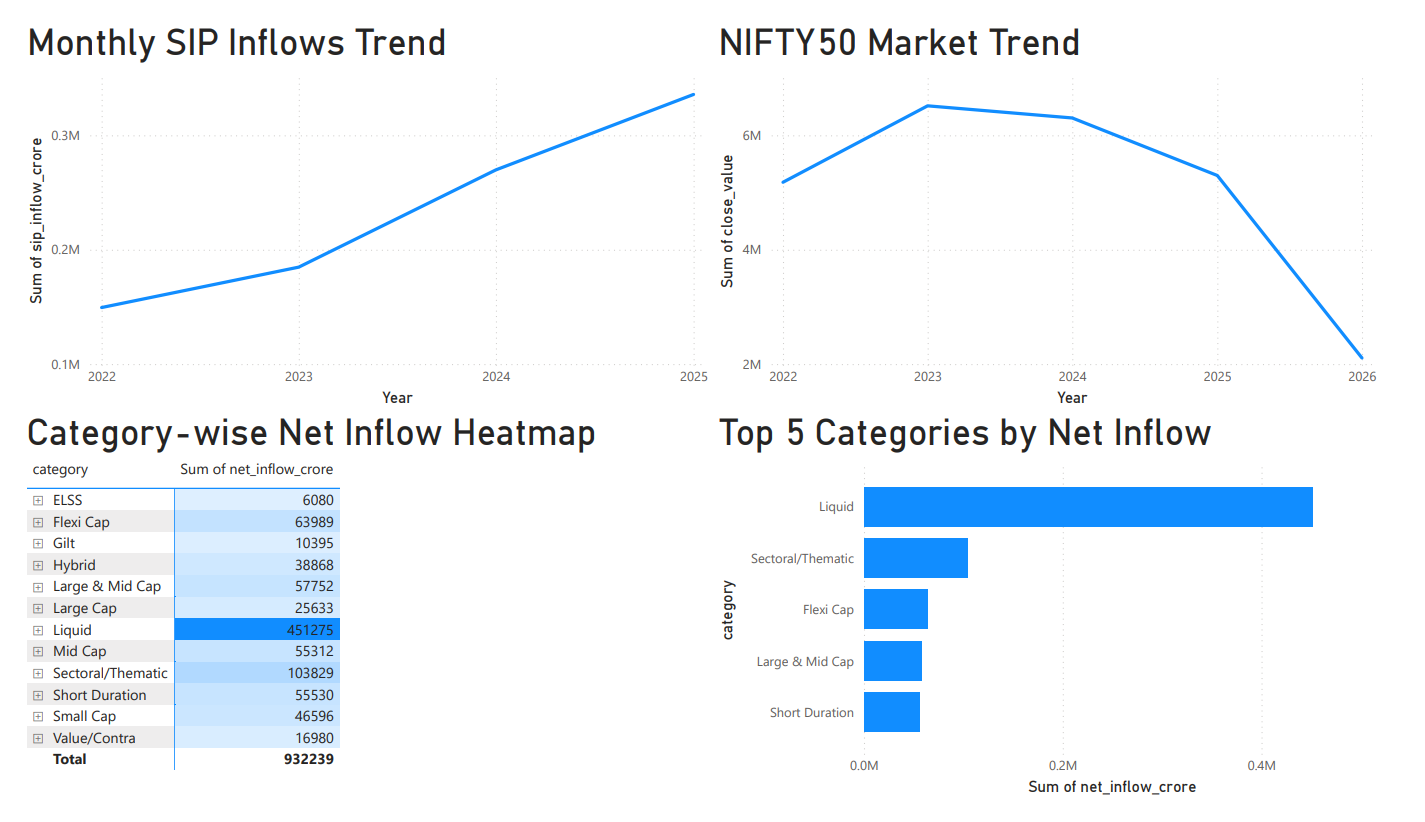

Layout of this report page (visuals, bound fields, positions):
{"tool":"powerbi","page":{"name":"Page 4 SIP & Market Trends","canvas":[1280,720],"ordinal":3},"visuals":[{"type":"lineChart","title":"Monthly SIP Inflows Trend","fields":{"Category":["04_monthly_sip_inflows.month.Variation.Date Hierarchy.Year","04_monthly_sip_inflows.month.Variation.Date Hierarchy.Quarter","04_monthly_sip_inflows.month.Variation.Date Hierarchy.Month","04_monthly_sip_inflows.month.Variation.Date Hierarchy.Day"],"Y":["Sum(04_monthly_sip_inflows.sip_inflow_crore)"]},"box":[0,0,640,360],"z":0},{"type":"lineChart","title":"NIFTY50 Market Trend","fields":{"Category":["10_benchmark_indices.date.Variation.Date Hierarchy.Year","10_benchmark_indices.date.Variation.Date Hierarchy.Quarter","10_benchmark_indices.date.Variation.Date Hierarchy.Month","10_benchmark_indices.date.Variation.Date Hierarchy.Day"],"Y":["Sum(10_benchmark_indices.close_value)"]},"box":[640,0,618.6,360],"z":1000},{"type":"pivotTable","title":"Category-wise Net Inflow Heatmap","fields":{"Rows":["05_category_inflows.category","05_category_inflows.month.Variation.Date Hierarchy.Year","05_category_inflows.month.Variation.Date Hierarchy.Quarter","05_category_inflows.month.Variation.Date Hierarchy.Month","05_category_inflows.month.Variation.Date Hierarchy.Day"],"Values":["Sum(05_category_inflows.net_inflow_crore)"]},"box":[0,360,640,360],"z":2000},{"type":"clusteredBarChart","title":"Top 5 Categories by Net Inflow","fields":{"Category":["05_category_inflows.category"],"Y":["Sum(05_category_inflows.net_inflow_crore)"]},"box":[640,360,618.6,360],"z":3000}]}

Visuals, with their boxes in screenshot pixels (x1, y1, x2, y2), scaled from the page's 1280x720 canvas onto the 1425x822 screenshot:
"Monthly SIP Inflows Trend" lineChart: 0:0:712:411
"NIFTY50 Market Trend" lineChart: 712:0:1401:411
"Category-wise Net Inflow Heatmap" pivotTable: 0:411:712:821
"Top 5 Categories by Net Inflow" clusteredBarChart: 712:411:1401:821
